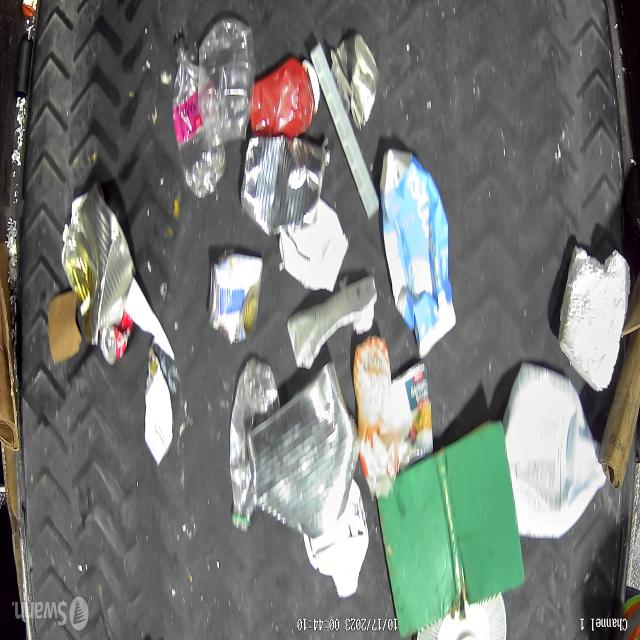can: (246, 360, 360, 539), (62, 180, 136, 347), (238, 133, 326, 236), (208, 252, 263, 343), (391, 361, 433, 473), (331, 32, 377, 131), (99, 313, 133, 367)
milk_jug: (506, 364, 607, 541)
non_white_jug: (379, 150, 456, 358)
plastic_bottle: (172, 38, 226, 200), (230, 358, 279, 532)
